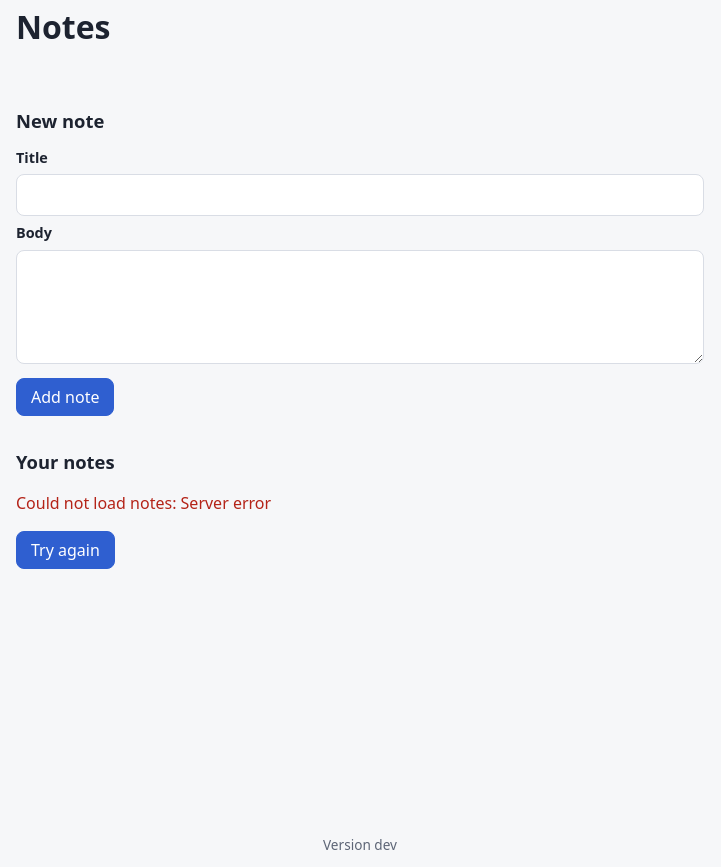
listing notes › shows an error and retries
Expected: the message shows "Could not load notes: Server error", [16,492,271,569]
Click the button "Try again": (65, 550) [16,531,115,569]
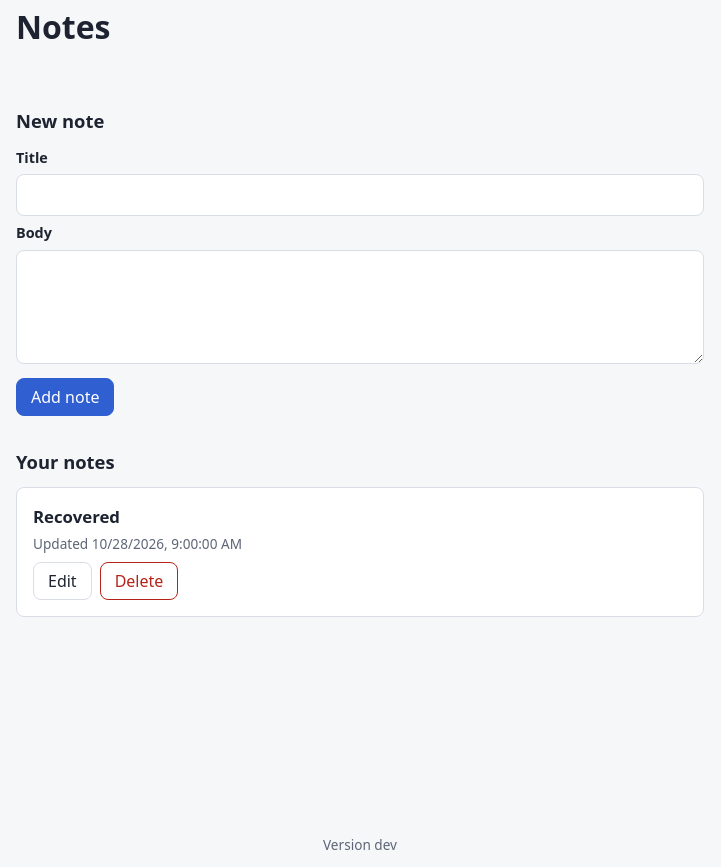
Expected: the list item "Recovered" is shown, [16,487,704,617]
